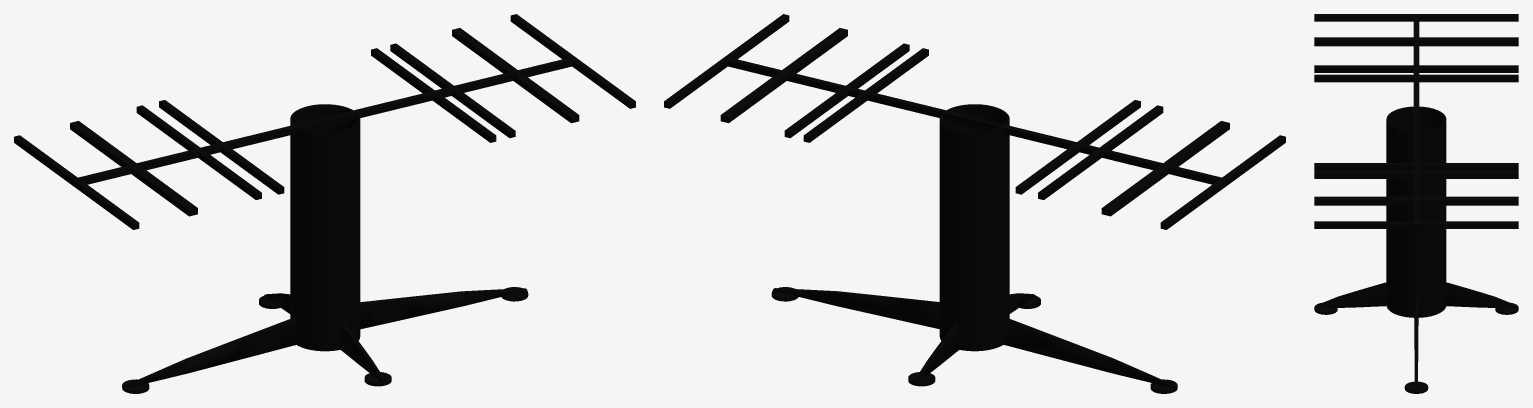
The model's file is 4 Legs on Pole.glb.
3 renders of one model, left to right at view 1: azimuth 30°, elevation 25°; view 2: azimuth 150°, elevation 25°; view 3: azimuth 270°, elevation 25°, orthographic. The views are drawn at different scales.
Parts seen in each view (by area): view 1: Rectangle_Rectangle__4_Legs_on_Pole_LEG_ALL_SIZE, Verbaan_4_Legs_on_Pole_LEG_ALL_SIZE, Oval_4_Legs_on_Pole_LEG_ALL_SIZE, Organic_4_Legs_on_Pole_LEG_ALL_SIZE, Halve_4_Legs_on_Pole_LEG_ALL_SIZE, Boat_4_Legs_on_Pole_LEG_ALL_SIZE; view 2: Verbaan_4_Legs_on_Pole_LEG_ALL_SIZE, Rectangle_Rectangle__4_Legs_on_Pole_LEG_ALL_SIZE, Organic_4_Legs_on_Pole_LEG_ALL_SIZE, Oval_4_Legs_on_Pole_LEG_ALL_SIZE, Boat_4_Legs_on_Pole_LEG_ALL_SIZE, Halve_4_Legs_on_Pole_LEG_ALL_SIZE; view 3: Rectangle_Rectangle__4_Legs_on_Pole_LEG_ALL_SIZE, Verbaan_4_Legs_on_Pole_LEG_ALL_SIZE, Organic_4_Legs_on_Pole_LEG_ALL_SIZE, Oval_4_Legs_on_Pole_LEG_ALL_SIZE, Halve_4_Legs_on_Pole_LEG_ALL_SIZE, Boat_4_Legs_on_Pole_LEG_ALL_SIZE.
Part boxes in pixels (x1,y1,x2,y2): Rectangle_Rectangle__4_Legs_on_Pole_LEG_ALL_SIZE: [14, 14, 635, 393]; Verbaan_4_Legs_on_Pole_LEG_ALL_SIZE: [76, 28, 576, 393]; Oval_4_Legs_on_Pole_LEG_ALL_SIZE: [136, 43, 525, 381]; Organic_4_Legs_on_Pole_LEG_ALL_SIZE: [124, 48, 517, 391]; Halve_4_Legs_on_Pole_LEG_ALL_SIZE: [70, 28, 579, 389]; Boat_4_Legs_on_Pole_LEG_ALL_SIZE: [76, 28, 572, 385]; Verbaan_4_Legs_on_Pole_LEG_ALL_SIZE: [723, 28, 1226, 393]; Rectangle_Rectangle__4_Legs_on_Pole_LEG_ALL_SIZE: [664, 14, 1285, 393]; Organic_4_Legs_on_Pole_LEG_ALL_SIZE: [785, 48, 1177, 392]; Oval_4_Legs_on_Pole_LEG_ALL_SIZE: [784, 43, 1163, 383]; Boat_4_Legs_on_Pole_LEG_ALL_SIZE: [722, 28, 1224, 392]; Halve_4_Legs_on_Pole_LEG_ALL_SIZE: [720, 28, 1229, 390]; Rectangle_Rectangle__4_Legs_on_Pole_LEG_ALL_SIZE: [1314, 14, 1518, 393]; Verbaan_4_Legs_on_Pole_LEG_ALL_SIZE: [1314, 38, 1518, 393]; Organic_4_Legs_on_Pole_LEG_ALL_SIZE: [1314, 74, 1518, 315]; Oval_4_Legs_on_Pole_LEG_ALL_SIZE: [1314, 65, 1518, 312]; Halve_4_Legs_on_Pole_LEG_ALL_SIZE: [1314, 37, 1518, 391]; Boat_4_Legs_on_Pole_LEG_ALL_SIZE: [1314, 38, 1518, 393].
Size of the model in its own units: 1.7 by 0.72 by 0.6983.
6 materials, 6 textured.
